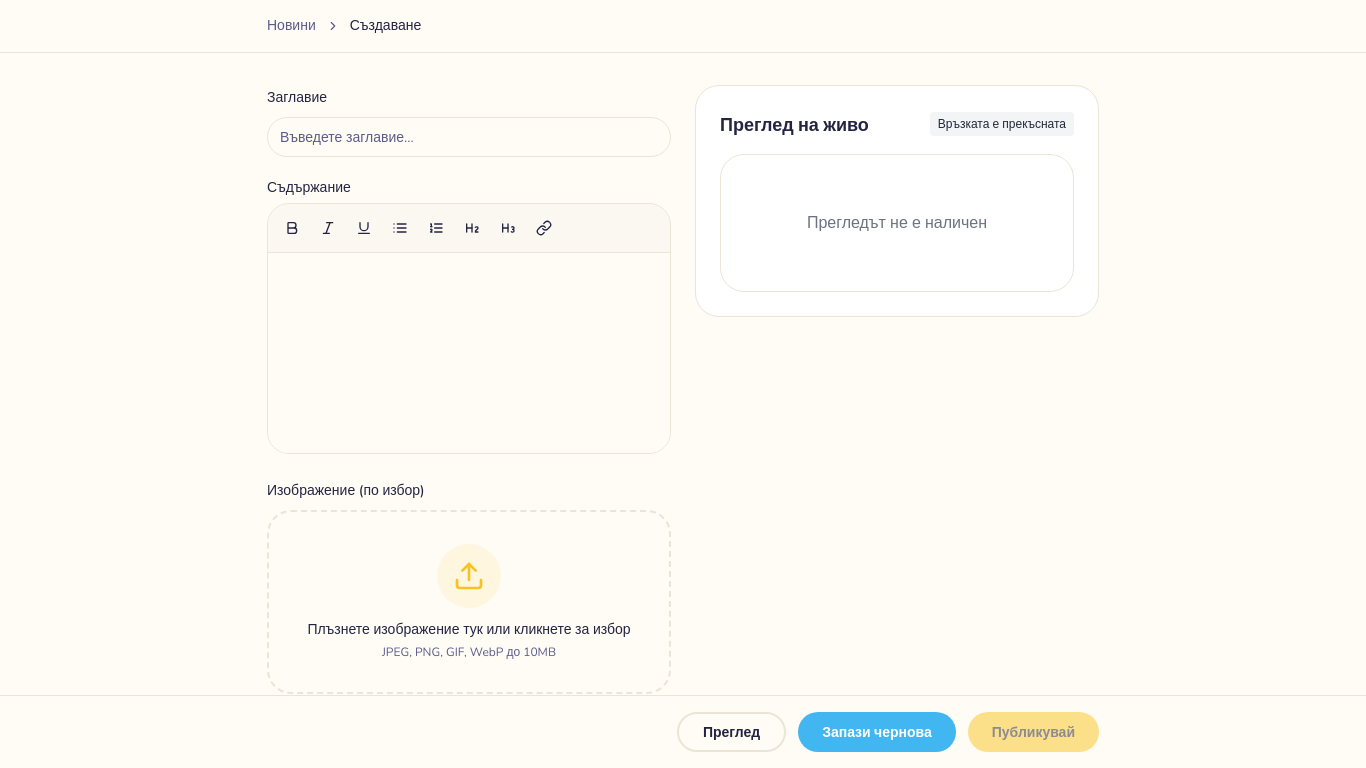
NewsCreate › Auto-Save Functionality › shows beforeunload warning during saving state
// Type and trigger save
In the field labelled "Заглавие": (469, 137) [267,117,671,157], type "Test"
Wait 10000 ms
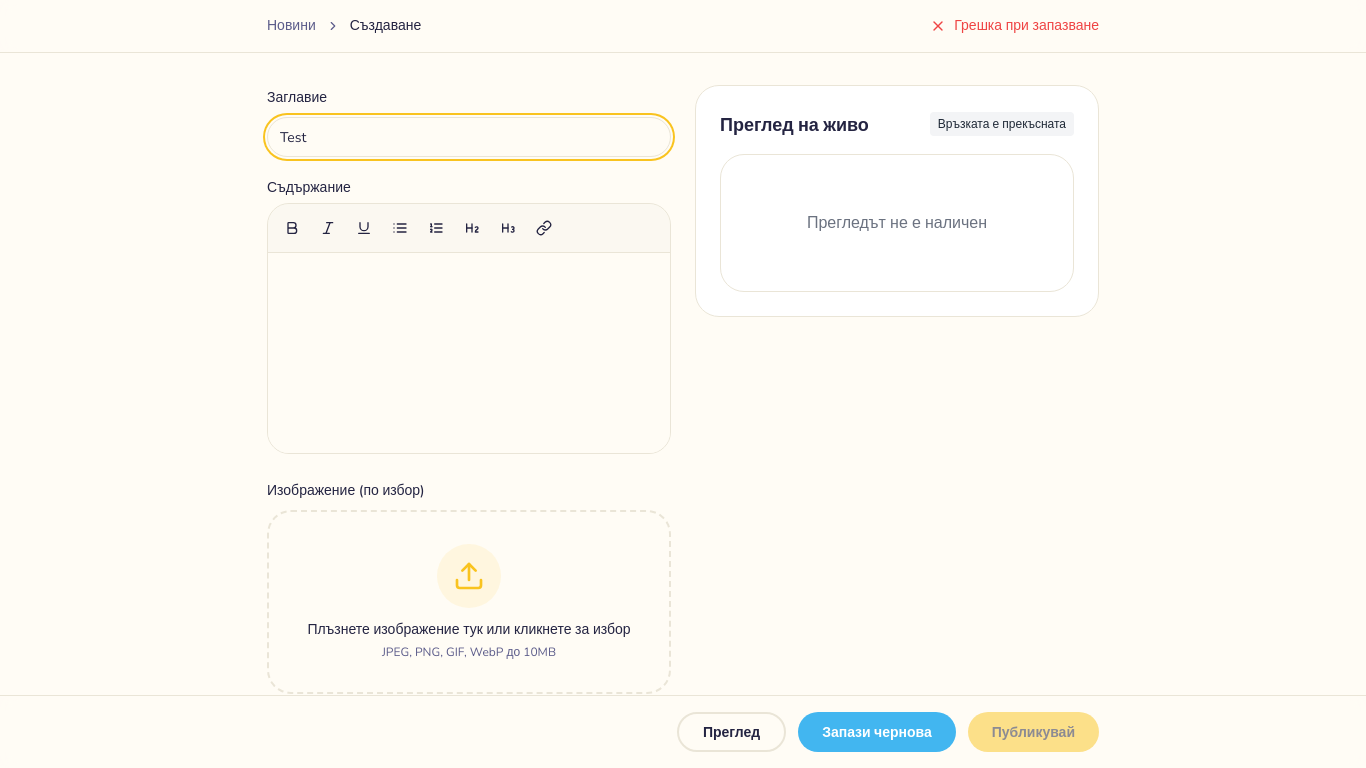
Check: the text "Запазва..." is shown, box [954,16,1099,36]
